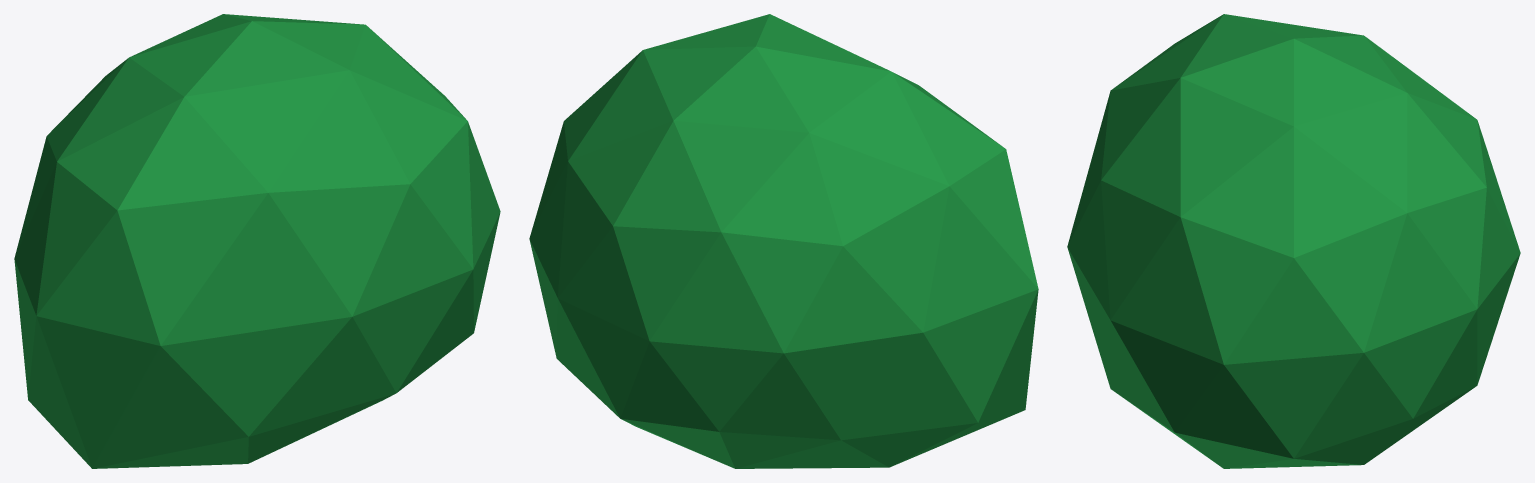
File: Bushes_01.fbx
3 renders of one model, left to right at view 1: azimuth 30°, elevation 25°; view 2: azimuth 150°, elevation 25°; view 3: azimuth 270°, elevation 25°, orthographic. The views are drawn at different scales.
Parts seen in each view (by area): view 1: Bushes_01; view 2: Bushes_01; view 3: Bushes_01.
Boxes of the visible parts, <box> form: Bushes_01: <box>14,14,500,468</box>; Bushes_01: <box>529,14,1038,468</box>; Bushes_01: <box>1067,14,1520,468</box>.
Size of the model in its own units: 72.81 by 59.51 by 60.75.
